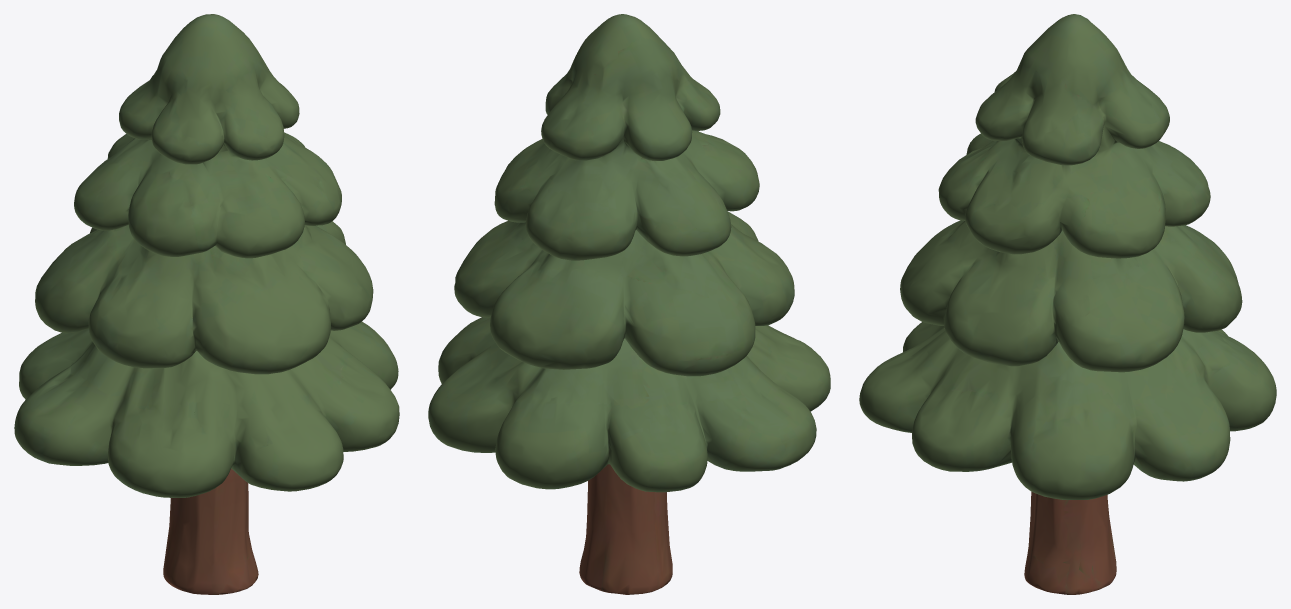
File: pine-3.glb
3 renders of one model, left to right at view 1: azimuth 30°, elevation 25°; view 2: azimuth 150°, elevation 25°; view 3: azimuth 270°, elevation 25°, orthographic.
Size of the model in its own units: 1.29 by 1.9 by 1.29.
Materials: 1 (1 with a texture image).
